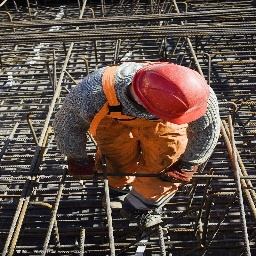helmet: (129, 63, 212, 128)
person: (49, 56, 231, 228)
